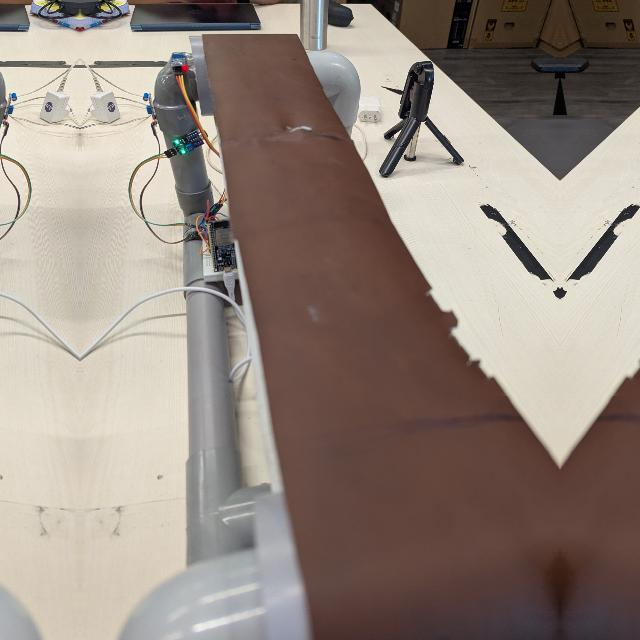edge_damage: (417, 276, 506, 393), (614, 276, 640, 393)
joint_damage: (276, 119, 328, 141)
